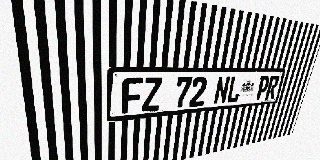2: (189, 76, 208, 107)
7: (173, 77, 193, 109)
F: (121, 78, 143, 114)
L: (226, 76, 243, 103)
N: (213, 76, 231, 105)
P: (255, 75, 271, 101)
R: (265, 75, 280, 100)
Z: (142, 77, 163, 112)
